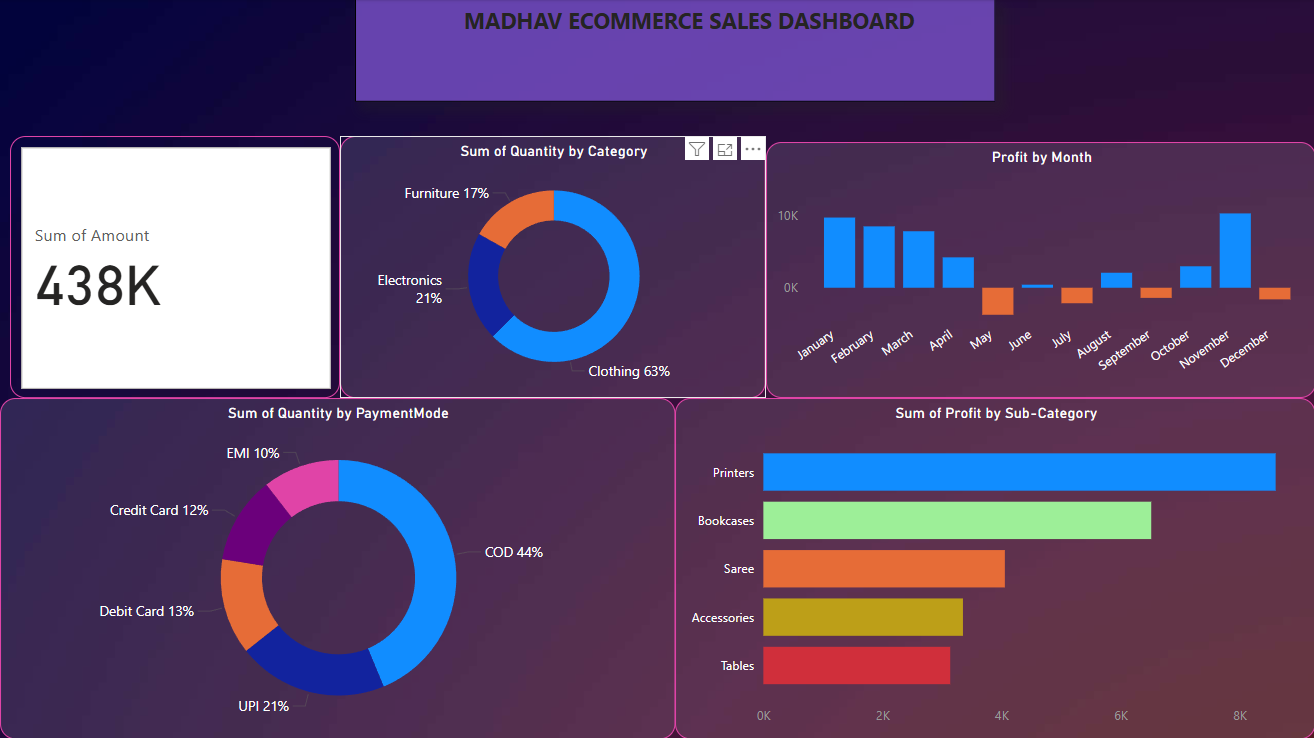

The page's visual inventory and layout, read from the dashboard file:
{"tool":"powerbi","page":{"name":"Page 1","canvas":[1280,720],"ordinal":0},"visuals":[{"type":"textbox","box":[345.3,0,623.5,100.2],"z":0},{"type":"columnChart","title":"Profit by Month","fields":{"Category":["Orders.Order Date.Variation.Date Hierarchy.Month"],"Y":["Sum(Details.Profit)"]},"box":[745,139.1,535,249],"z":1000},{"type":"barChart","fields":{"Category":["Details.Sub-Category"],"Y":["Sum(Details.Profit)"]},"box":[656.5,388.1,623.5,331.7],"z":2000},{"type":"donutChart","fields":{"Category":["Details.Category"],"Y":["Sum(Details.Quantity)"]},"box":[330.7,133.3,414.3,254.8],"z":3000},{"type":"donutChart","fields":{"Category":["Details.PaymentMode","Details.Category"],"Y":["Sum(Details.Quantity)"]},"box":[0,388.1,656.5,331.7],"z":4000},{"type":"cardVisual","fields":{"Data":["Sum(Details.Amount)"]},"box":[10,133,321,255],"z":5000}]}

Visuals, with their boxes in screenshot pixels (x1, y1, x2, y2), scaled from the page's 1280x720 canvas onto the 1314x738 screenshot:
textbox: <bbox>354, 0, 995, 103</bbox>
"Profit by Month" columnChart: <bbox>765, 143, 1313, 398</bbox>
barChart - Details.Sub-Category x Sum(Details.Profit): <bbox>674, 398, 1313, 737</bbox>
donutChart - Details.Category x Sum(Details.Quantity): <bbox>339, 137, 765, 398</bbox>
donutChart - Details.PaymentMode x Details.Category: <bbox>0, 398, 674, 737</bbox>
cardVisual - Sum(Details.Amount): <bbox>10, 136, 340, 398</bbox>
